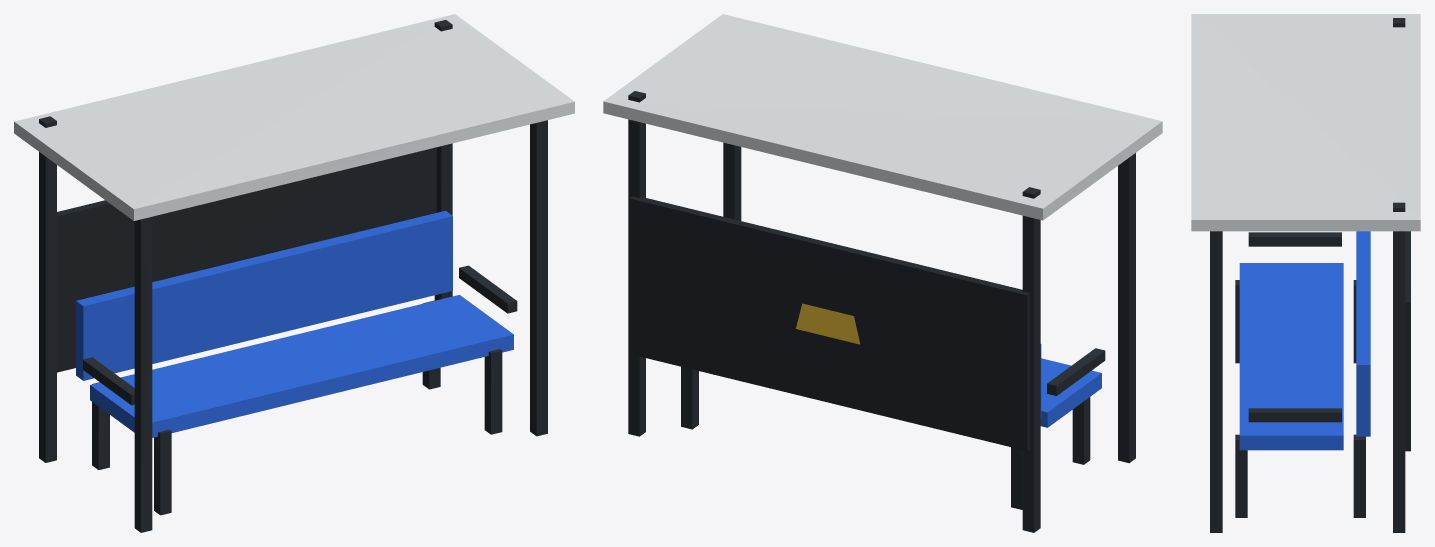
The model's file is bench_lod0.glb.
3 renders of one model, left to right at view 1: azimuth 30°, elevation 25°; view 2: azimuth 150°, elevation 25°; view 3: azimuth 270°, elevation 25°, orthographic. The views are drawn at different scales.
Parts seen in each view (by area): view 1: bench_mesh; view 2: bench_mesh; view 3: bench_mesh.
Boxes of the visible parts, x1,y1,x2,y2 form: bench_mesh: (14, 14, 574, 532); bench_mesh: (603, 14, 1162, 532); bench_mesh: (1191, 14, 1420, 532).
Bounding box in the file's own units: 2.72 × 2 × 1.28.
